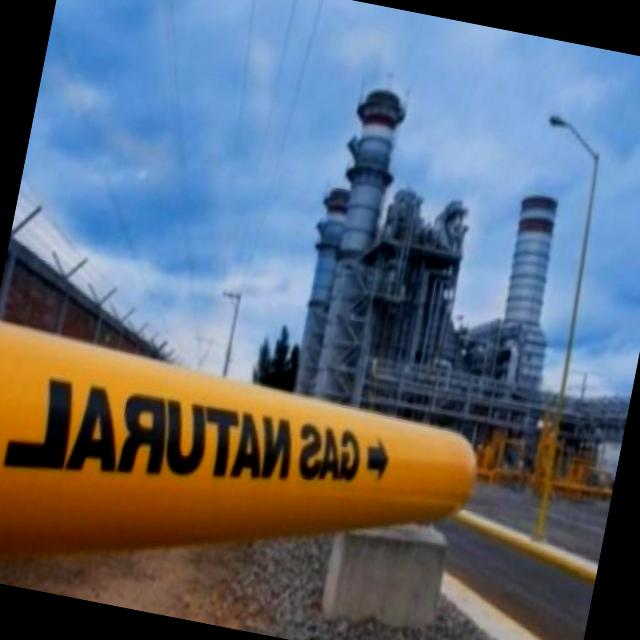gas: (0, 323, 474, 558), (450, 510, 598, 586)
